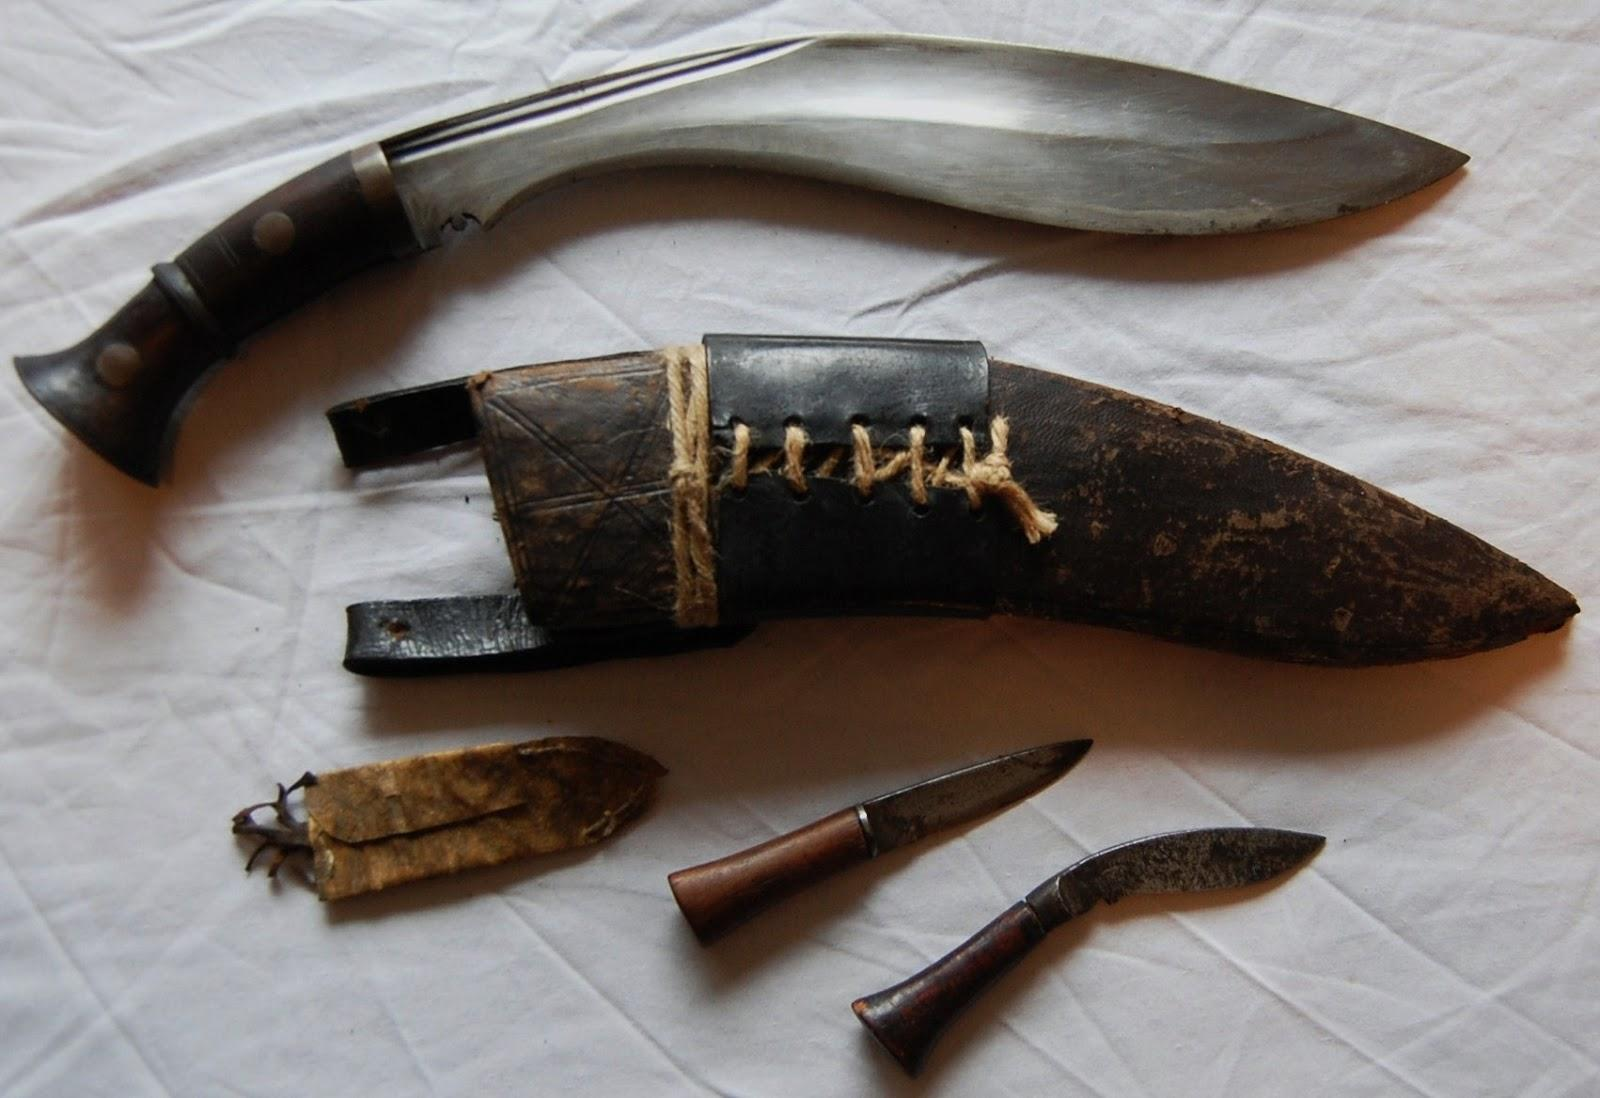faca: (853, 829, 1324, 1068), (671, 741, 1091, 933)
facao: (16, 35, 1466, 482)
